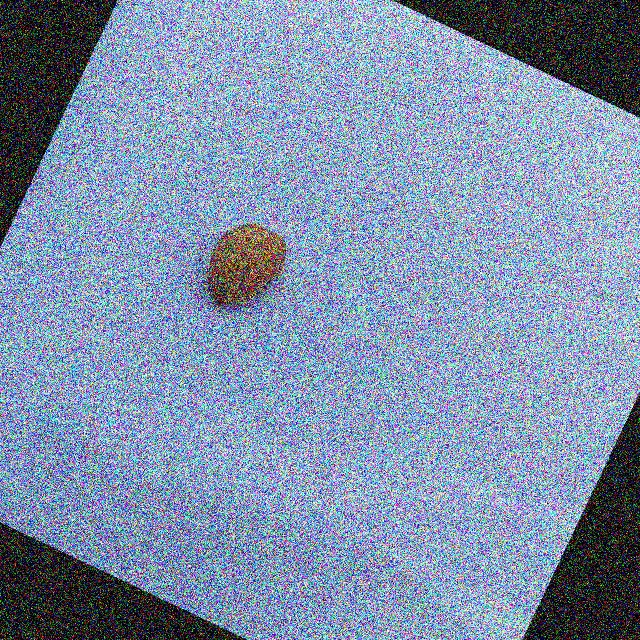grade2: (189, 208, 302, 329)
